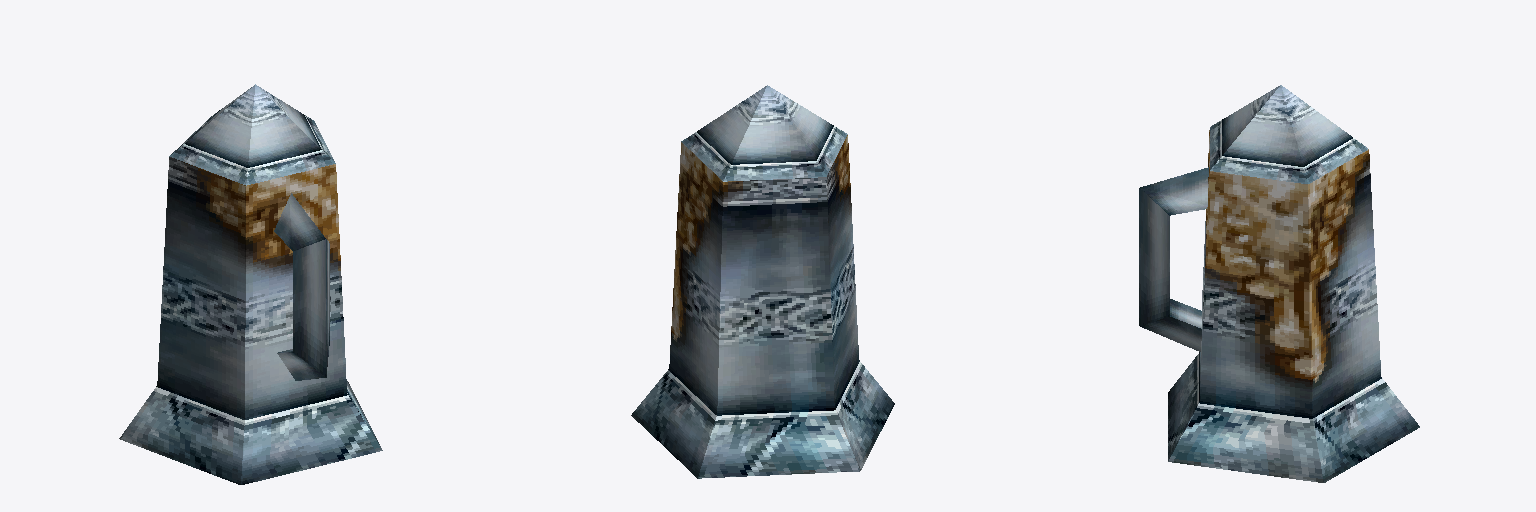
The picture shows the model from 3 angles: view 1: azimuth 30°, elevation 25°; view 2: azimuth 150°, elevation 25°; view 3: azimuth 270°, elevation 25°; orthographic projection.
Visible parts, largest first — view 1: Stein01; view 2: Stein01; view 3: Stein01.
Boxes of the visible parts, x1,y1,x2,y2 form: Stein01: [119, 84, 382, 484]; Stein01: [631, 85, 894, 478]; Stein01: [1139, 85, 1419, 482].
Size of the model in its own units: 0.4163 by 0.5926 by 0.4409.
1 materials, 1 textured.